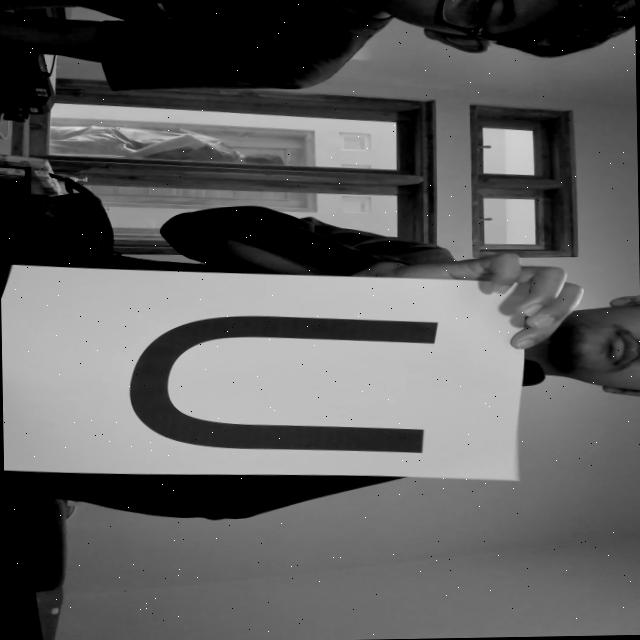u: (117, 311, 460, 460)
